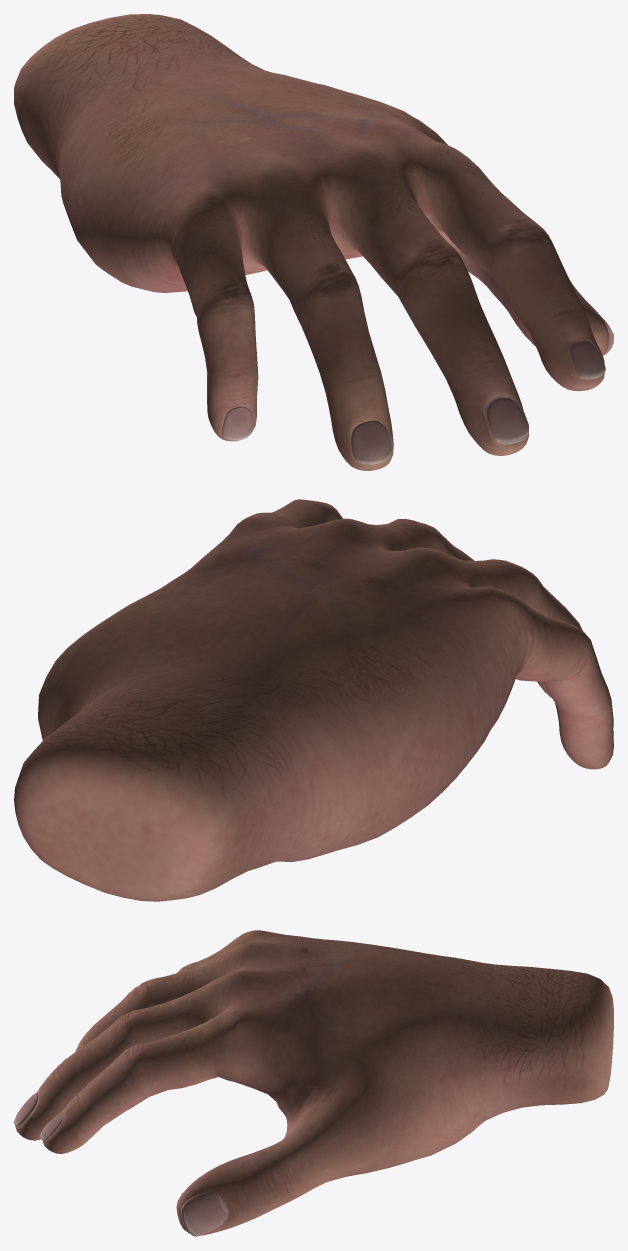
Rendered from FirstPersonHand_V2_Mesh.obj.
The picture shows the model from 3 angles, top to bottom: view 1: azimuth 30°, elevation 25°; view 2: azimuth 150°, elevation 25°; view 3: azimuth 270°, elevation 25°; orthographic projection. The views are drawn at different scales.
Visible parts, largest first — view 1: Hand_Mesh; view 2: Hand_Mesh; view 3: Hand_Mesh.
Boxes of the visible parts, x1,y1,x2,y2 form: Hand_Mesh: [14, 14, 613, 470]; Hand_Mesh: [14, 499, 613, 901]; Hand_Mesh: [14, 930, 613, 1236].
Size of the model in its own units: 11.82 by 6.66 by 19.23.
